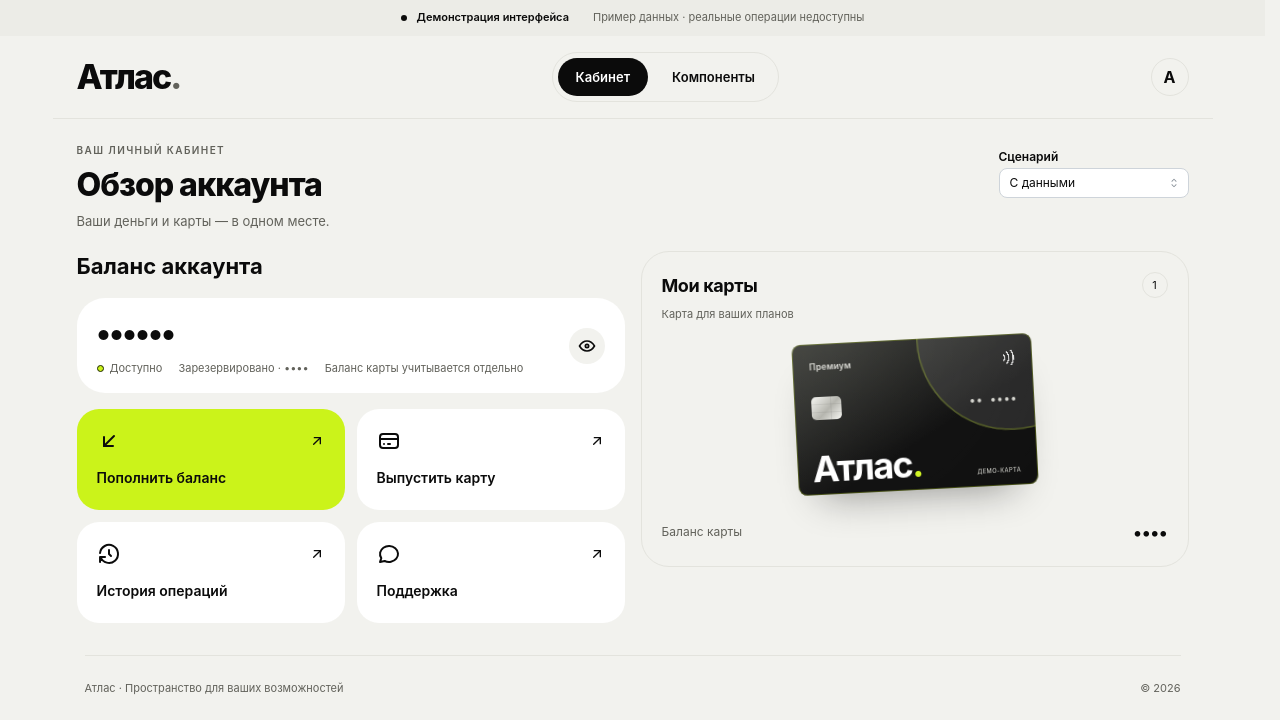
Test case: PreviewDashboard › shows unavailable data rather than fake zeroes on error, then supports the demo retry
Click the dropdown labelled "Сценарий": (1094, 183) [998,168,1188,198]
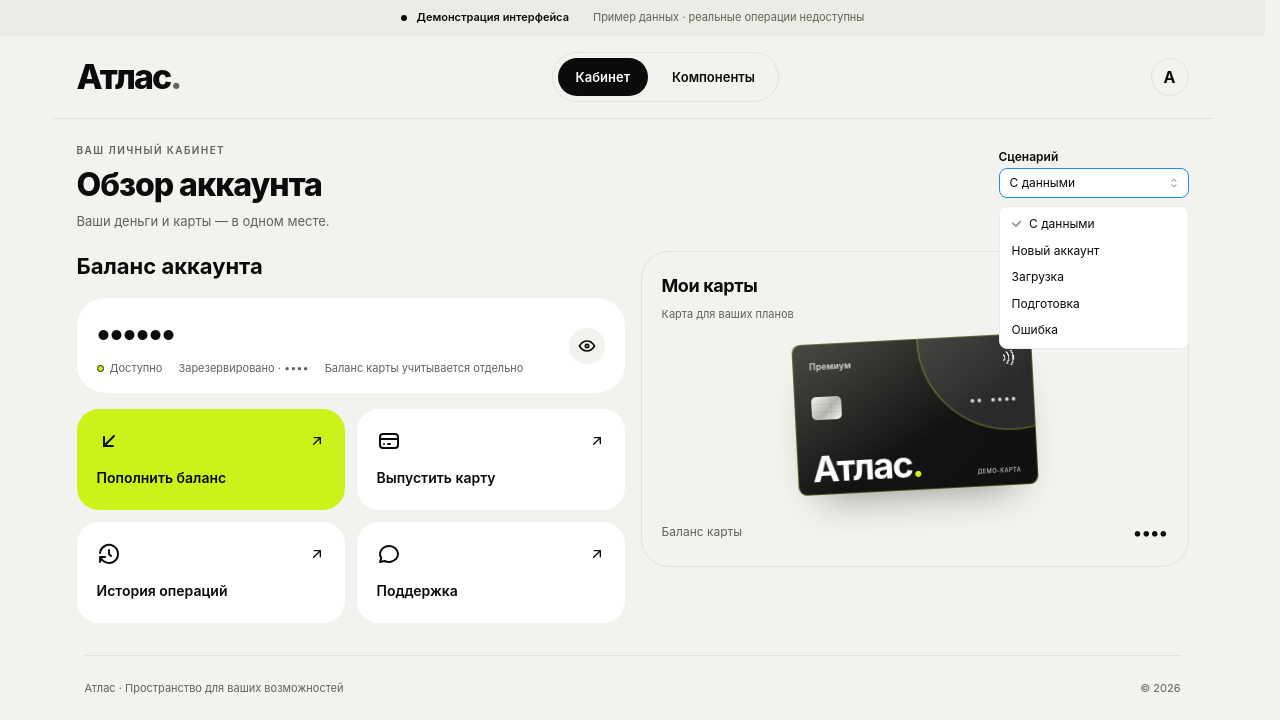
Click the option "Ошибка": (1035, 330) [1012,322,1058,337]
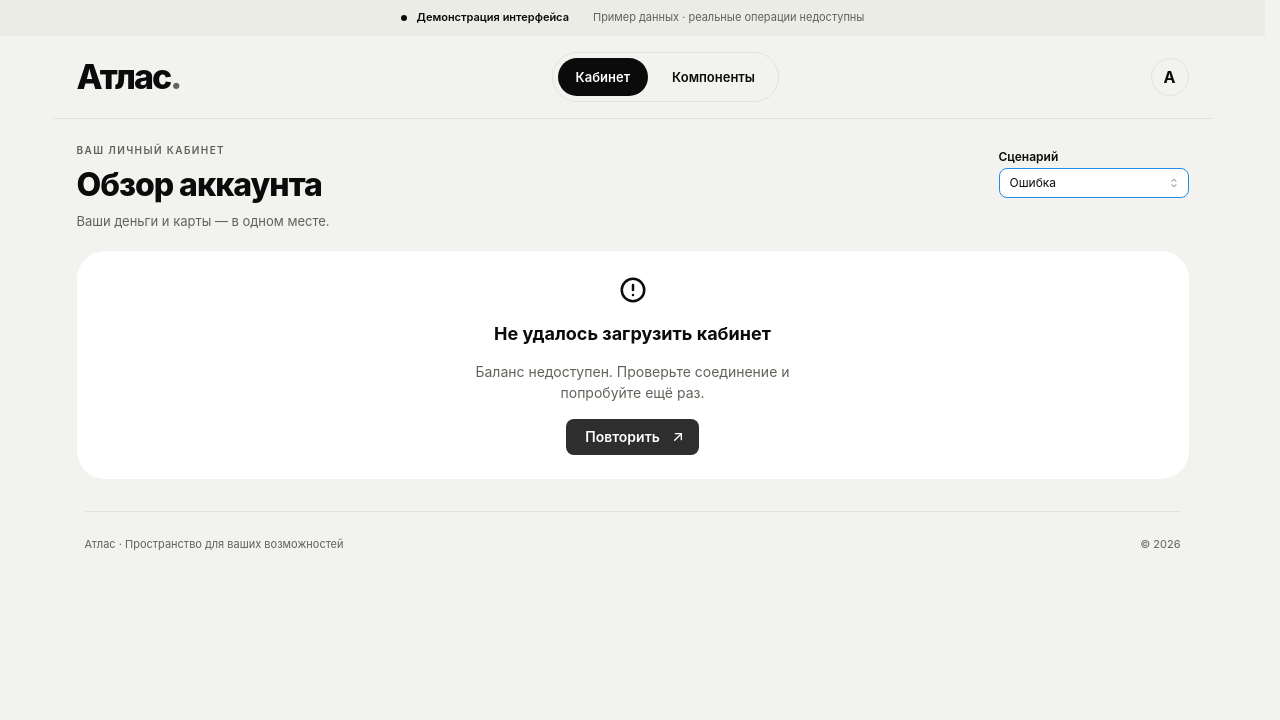
Now the message shows "Баланс недоступен", box [476,363,790,401]
Click the button "Повторить": (632, 437) [566,419,699,455]
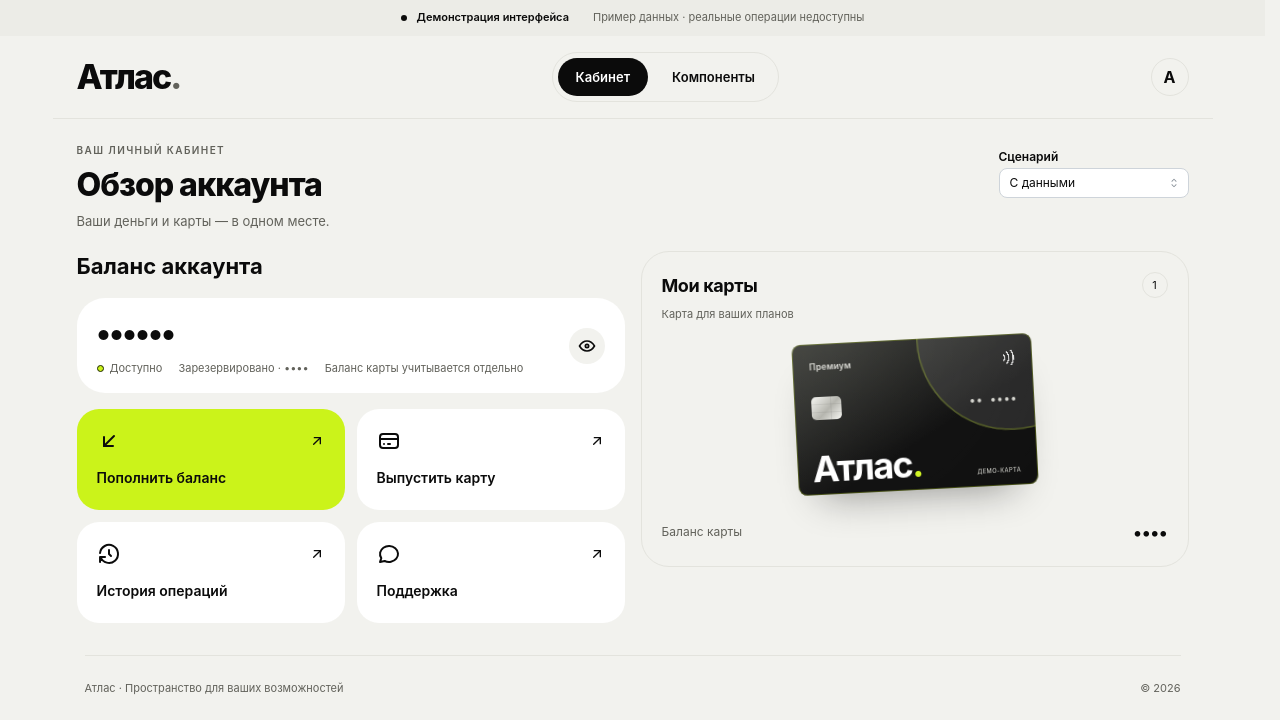
Now the button named "Показать баланс" is shown, box [568,328,604,364]
